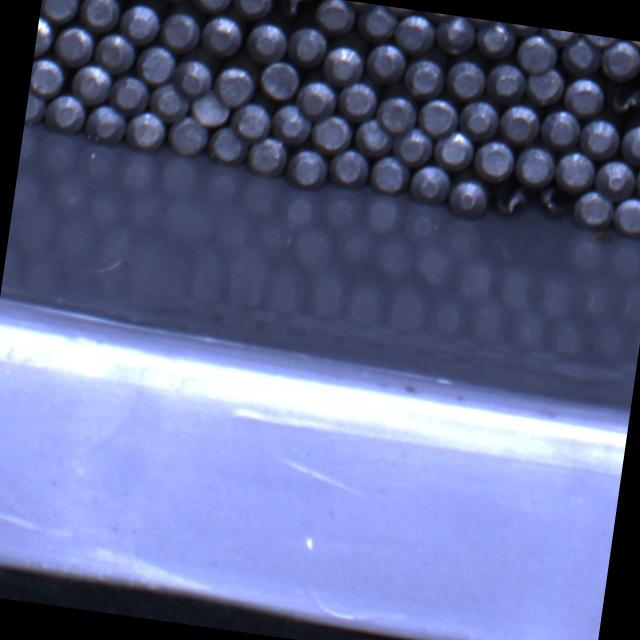tool: (198, 13, 244, 60), (514, 143, 560, 189), (592, 156, 638, 202), (402, 54, 447, 100), (70, 62, 116, 107), (287, 25, 332, 71), (408, 163, 454, 208), (364, 40, 409, 86), (42, 91, 88, 136), (320, 43, 365, 88), (444, 56, 489, 101), (256, 59, 302, 103), (472, 136, 516, 182), (554, 148, 598, 194), (498, 100, 544, 144), (94, 32, 140, 76), (52, 21, 96, 67), (158, 8, 204, 52), (148, 79, 194, 123), (283, 146, 329, 190), (246, 20, 290, 66), (558, 32, 604, 76), (293, 77, 338, 121), (416, 95, 461, 139), (392, 10, 437, 54), (578, 116, 622, 161), (432, 129, 476, 174), (214, 63, 258, 108), (272, 103, 316, 148), (336, 80, 381, 124), (85, 102, 130, 146), (166, 114, 212, 157), (434, 15, 480, 58), (474, 19, 520, 62), (308, 110, 352, 154), (135, 44, 179, 88), (563, 74, 607, 118), (119, 0, 163, 44), (391, 126, 435, 170), (458, 98, 502, 142), (447, 176, 491, 220), (205, 122, 249, 166), (353, 115, 398, 158), (515, 31, 559, 74), (327, 146, 371, 189), (572, 189, 616, 232), (524, 65, 568, 108), (172, 55, 216, 98), (124, 109, 167, 152), (540, 108, 583, 151), (486, 60, 529, 103), (229, 99, 273, 141), (598, 36, 640, 80), (376, 92, 420, 134), (246, 134, 290, 176), (188, 86, 232, 128), (110, 72, 152, 116), (356, 2, 400, 44), (368, 153, 411, 195), (29, 54, 67, 98), (312, 0, 357, 37), (77, 0, 122, 32), (610, 196, 640, 239), (34, 12, 57, 57), (41, 0, 82, 23), (619, 123, 640, 167), (24, 88, 48, 126), (232, 0, 276, 20), (541, 28, 582, 46), (500, 22, 541, 38), (580, 34, 622, 48), (191, 0, 236, 13), (382, 6, 420, 17)
tool_b: (528, 184, 574, 226), (491, 182, 532, 220), (605, 81, 640, 120), (274, 0, 318, 24)
